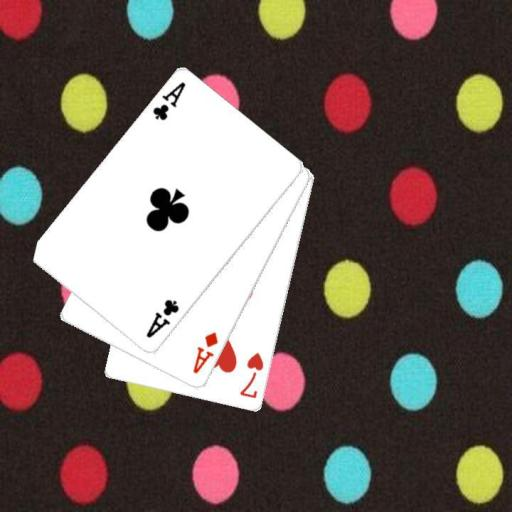7H: (237, 350, 265, 401)
AC: (142, 296, 181, 340), (149, 79, 188, 123)
AD: (189, 330, 220, 376)
